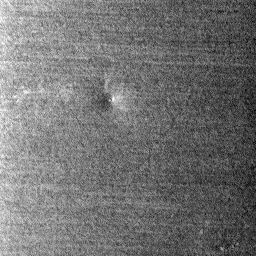dent: (89, 88, 126, 115)
